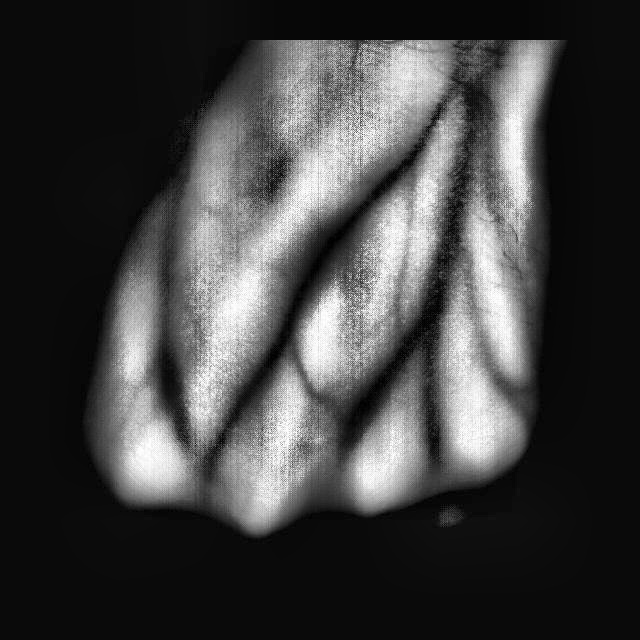Vein: (270, 128, 431, 325), (419, 110, 497, 312)
